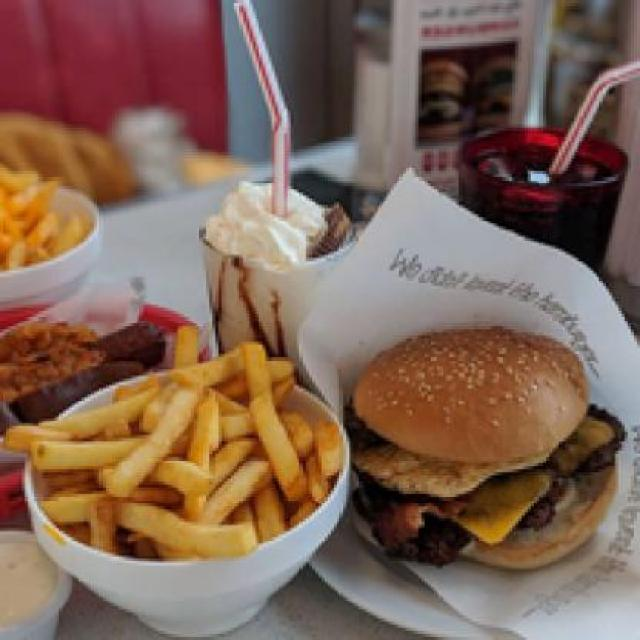french fries: (44, 330, 338, 581), (3, 164, 97, 274)
hamburger: (349, 314, 625, 578)
